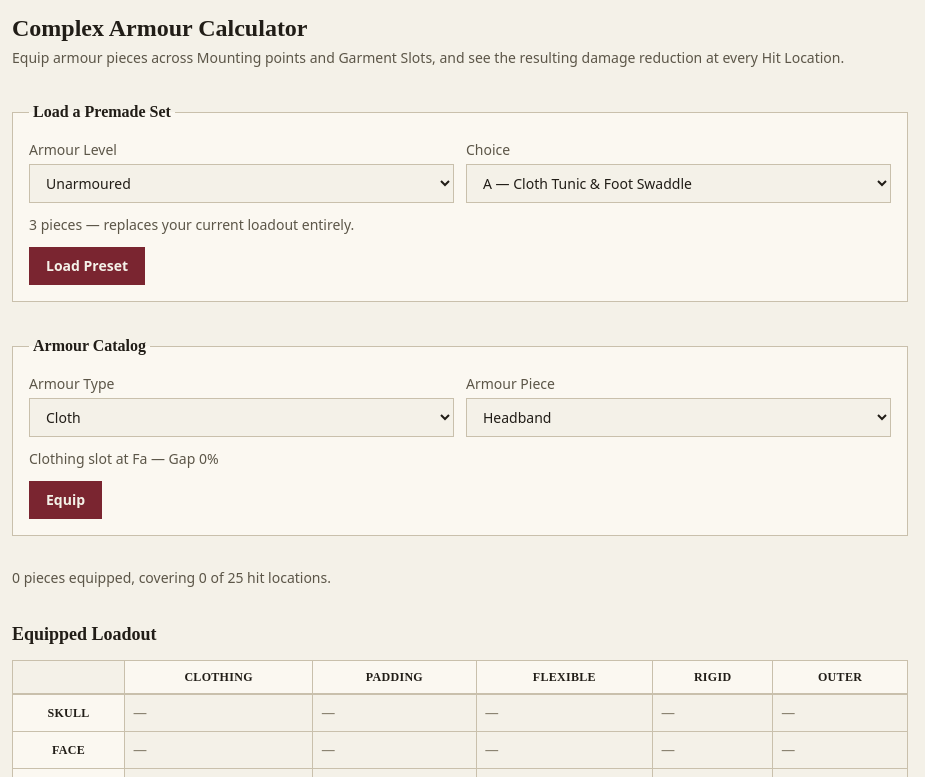
ComplexArmourCalculator › shows the conflict message and leaves the loadout unchanged on a blocked equip
Select "Tunic" in the dropdown labelled "Armour Piece" at (678,418), box [466, 398, 891, 437]
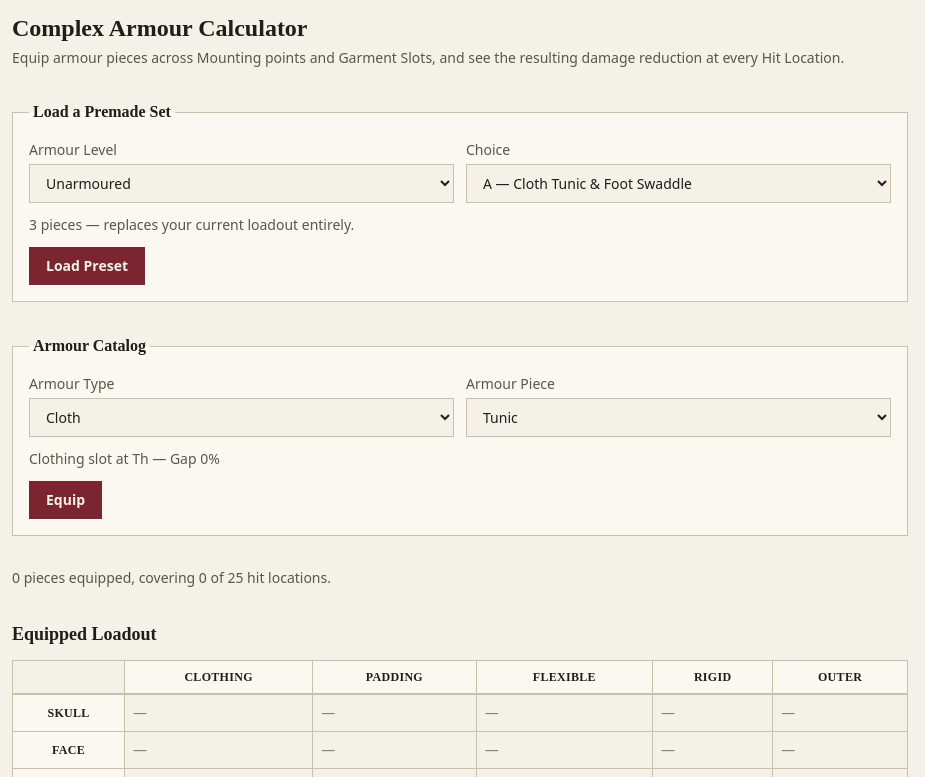
Click the button "Equip" at (66,500), box [29, 481, 102, 519]
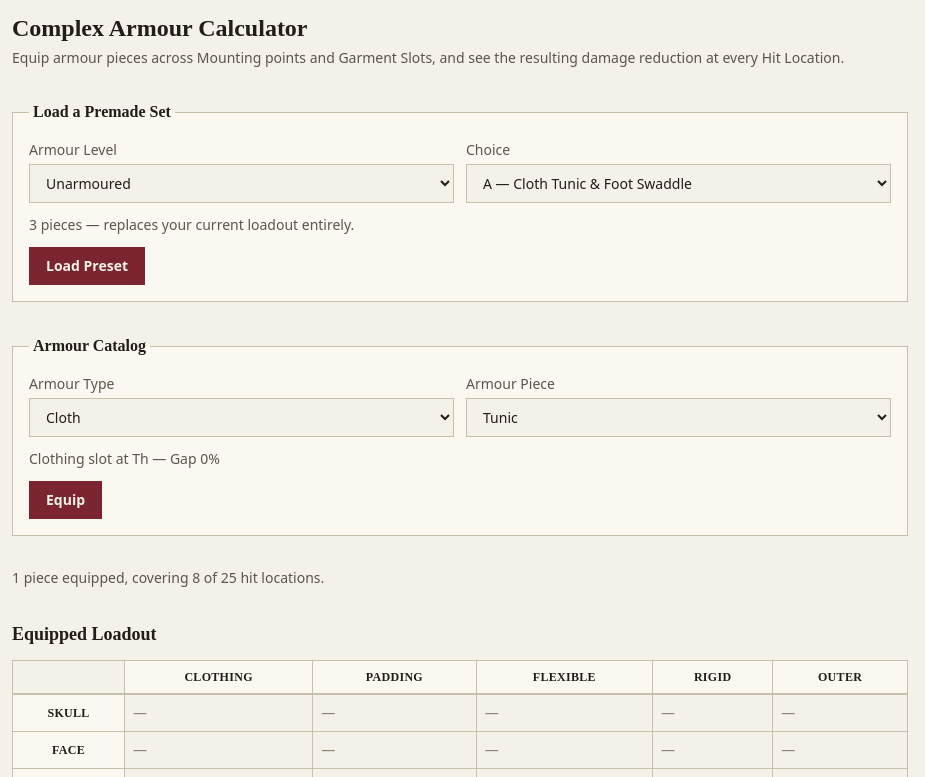
Select "Shirt" in the dropdown labelled "Armour Piece" at (678,418), box [466, 398, 891, 437]
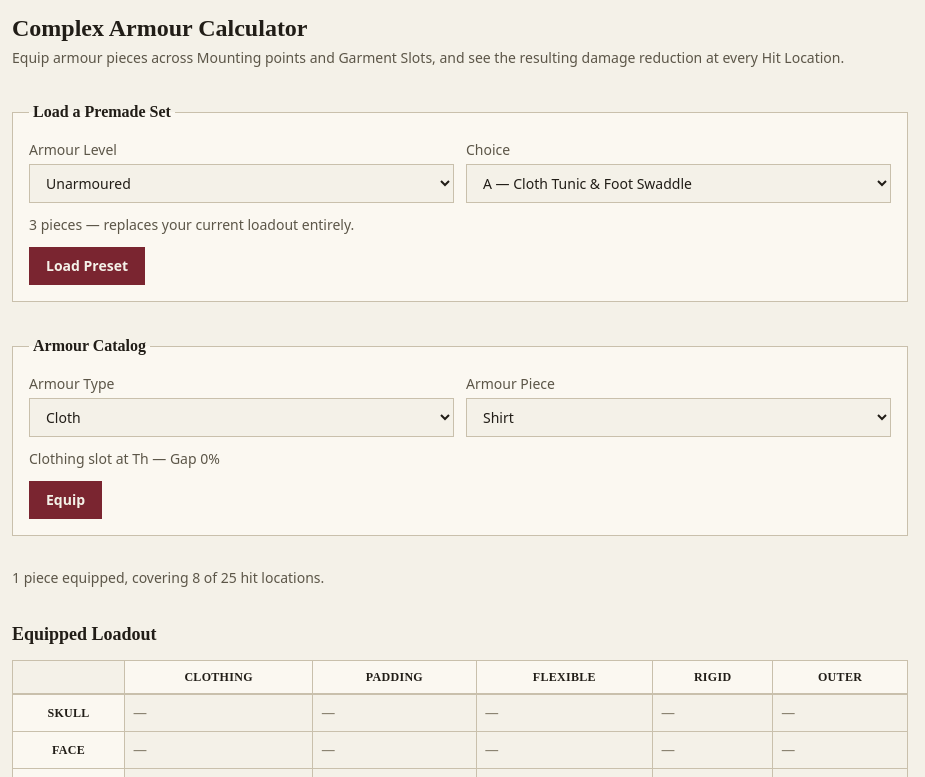
Click the button "Equip" at (66,500), box [29, 481, 102, 519]
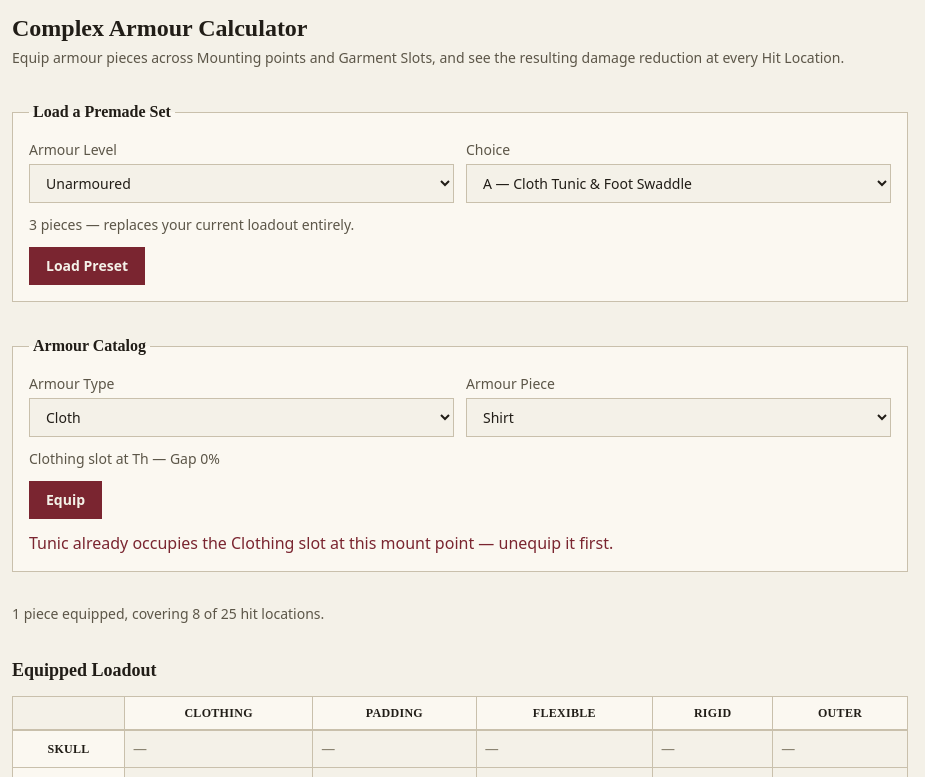
Expected: the message "1 piece equipped, covering 8 of 25 hit locations." is shown, [12, 604, 324, 623]
Expected: the 1st message shows "Tunic", [29, 532, 613, 554]
